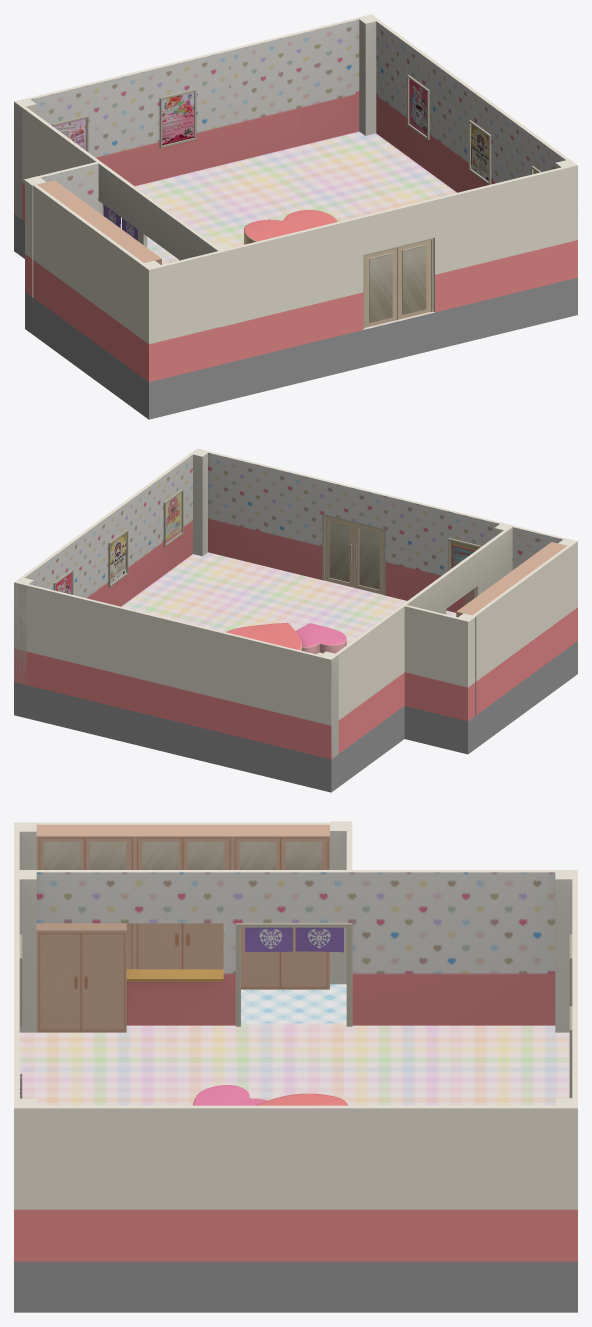
File: MaidCafe_Room.fbx
3 views of the same model, one above another, from view 1: azimuth 30°, elevation 25°; view 2: azimuth 150°, elevation 25°; view 3: azimuth 270°, elevation 25° (orthographic). The views are drawn at different scales.
Parts seen in each view (by area): view 1: Wall, Floor, Wall_door, Wall_Service_Cabinet, Wall_Service_Entrance, Picture, FrontDoor_R, FrontDoor_L, Column03, SmallCabinet, Heart_Stage_Big, Column04; view 2: Wall, Floor, Wall_door, Wall_Service_Cabinet, Wall_Service_Entrance, Picture, FrontDoor_L, FrontDoor_R, Column02, SmallCabinet, Heart_Stage_Big, Heart_Stage_Small (+3 smaller); view 3: Wall, Floor, Wall_Service_Entrance, SmallCabinet, Cabinet01, Cabinet03, Cabinet04, Column01, Column04, DoorFrame_Service, Column05, Wall_door (+8 smaller).
Part boxes in pixels (<box>): Wall: <box>14,14,577,382</box>; Floor: <box>14,131,577,419</box>; Wall_door: <box>220,164,577,364</box>; Wall_Service_Cabinet: <box>25,180,150,381</box>; Wall_Service_Entrance: <box>14,101,221,260</box>; Picture: <box>52,75,541,184</box>; FrontDoor_R: <box>364,248,397,328</box>; FrontDoor_L: <box>398,240,430,319</box>; Column03: <box>358,14,378,135</box>; SmallCabinet: <box>37,180,161,264</box>; Heart_Stage_Big: <box>244,210,337,244</box>; Column04: <box>14,98,36,219</box>; Wall: <box>14,448,577,759</box>; Floor: <box>14,552,577,792</box>; Wall_door: <box>197,448,513,612</box>; Wall_Service_Cabinet: <box>468,541,577,720</box>; Wall_Service_Entrance: <box>330,526,513,758</box>; Picture: <box>53,489,480,594</box>; FrontDoor_L: <box>324,516,354,587</box>; FrontDoor_R: <box>354,523,383,594</box>; Column02: <box>190,449,209,556</box>; SmallCabinet: <box>456,542,566,617</box>; Heart_Stage_Big: <box>226,622,302,650</box>; Heart_Stage_Small: <box>295,623,346,654</box>; Wall: <box>14,823,577,1261</box>; Floor: <box>14,984,577,1312</box>; Wall_Service_Entrance: <box>15,870,576,1025</box>; SmallCabinet: <box>36,824,329,869</box>; Cabinet01: <box>36,923,126,1032</box>; Cabinet03: <box>134,923,223,969</box>; Cabinet04: <box>241,927,329,989</box>; Column01: <box>14,870,36,1032</box>; Column04: <box>555,870,577,1032</box>; DoorFrame_Service: <box>235,923,352,1026</box>; Column05: <box>330,821,352,984</box>; Wall_door: <box>14,870,19,1107</box>.
Size of the model in its own units: 1203 by 400 by 1000.
